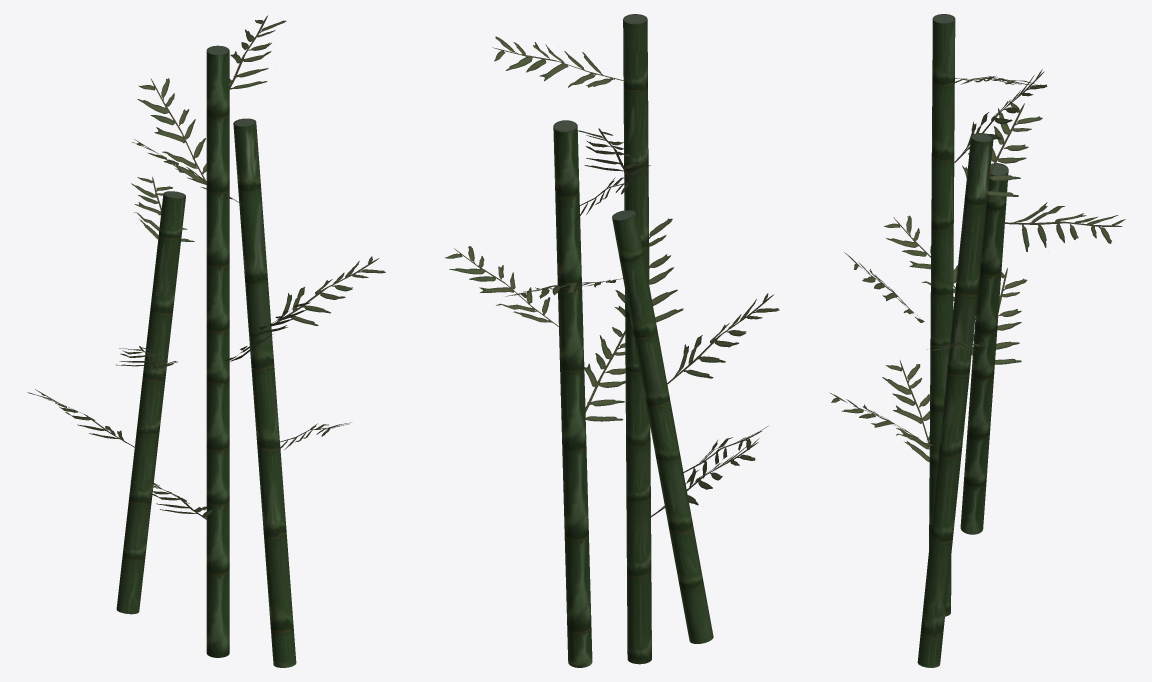
Rendered from Bamboo.fbx.
The picture shows the model from 3 angles, left to right: view 1: azimuth 30°, elevation 25°; view 2: azimuth 150°, elevation 25°; view 3: azimuth 270°, elevation 25°; orthographic projection. The views are drawn at different scales.
Parts seen in each view (by area): view 1: Bamboo_Leaves17; view 2: Bamboo_Leaves17; view 3: Bamboo_Leaves17.
Boxes of the visible parts, box(x1,y1,x2,y2) form: Bamboo_Leaves17: box(27, 15, 385, 667); Bamboo_Leaves17: box(445, 14, 779, 667); Bamboo_Leaves17: box(829, 14, 1125, 667).
Bounding box in the file's own units: 250 × 451 × 211.
